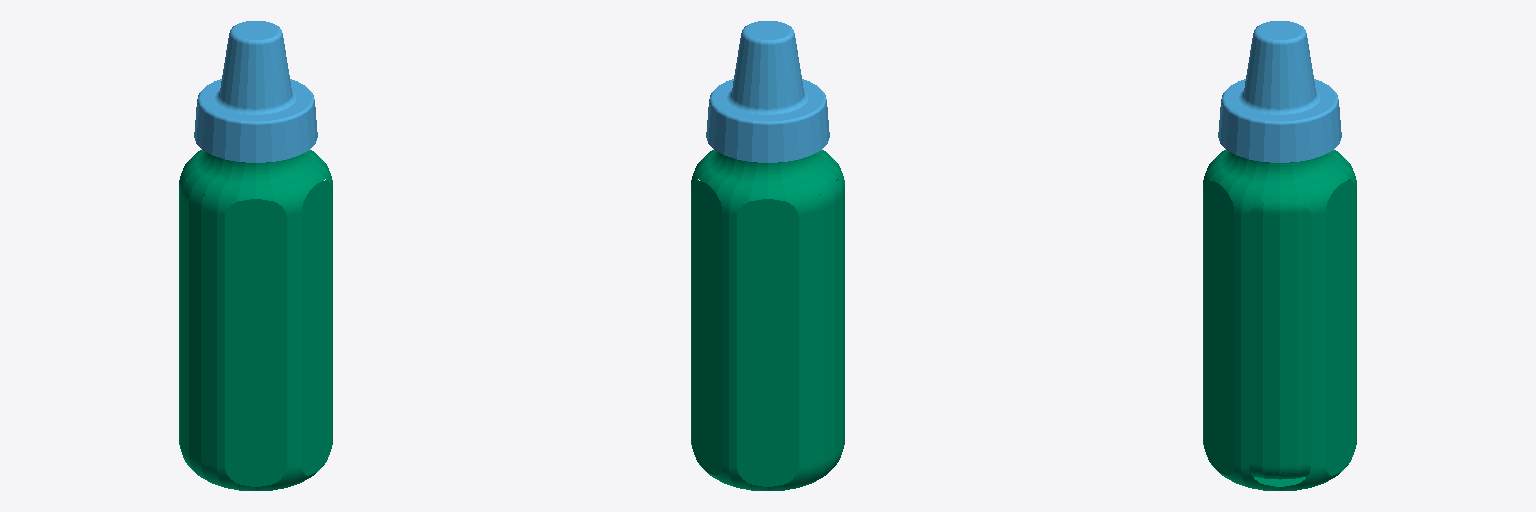
robot.urdf — partnet_89b12196a1db5a74bb8058680b6b9460:
<?xml version="1.0" ?>
<robot name="partnet_89b12196a1db5a74bb8058680b6b9460">
	<link name="base"/>
	<link name="link_0">
		<visual name="lid-10">
			<origin xyz="2.0702384051413114e-05 0 0.006605"/>
			<geometry>
				<mesh filename="textured_objs/original-10.obj"/>
			</geometry>
		</visual>
		<collision>
			<origin xyz="2.0702384051413114e-05 0 0.006605"/>
			<geometry>
				<mesh filename="textured_objs/original-10.obj"/>
			</geometry>
		</collision>
	</link>
	<joint name="joint_0" type="prismatic">
		<origin xyz="-2.0702384051413114e-05 0 -0.006605"/>
		<axis xyz="0 1 0"/>
		<child link="link_0"/>
		<parent link="link_1"/>
		<limit lower="-0.03200000000000003" upper="0.1080000000000001"/>
	</joint>
	<link name="link_1">
		<visual name="body-8">
			<origin xyz="0 0 0"/>
			<geometry>
				<mesh filename="textured_objs/new-5.obj"/>
			</geometry>
		</visual>
		<visual name="body-8">
			<origin xyz="0 0 0"/>
			<geometry>
				<mesh filename="textured_objs/new-1.obj"/>
			</geometry>
		</visual>
		<visual name="neck-9">
			<origin xyz="0 0 0"/>
			<geometry>
				<mesh filename="textured_objs/new-4.obj"/>
			</geometry>
		</visual>
		<visual name="neck-9">
			<origin xyz="0 0 0"/>
			<geometry>
				<mesh filename="textured_objs/new-2.obj"/>
			</geometry>
		</visual>
		<visual name="neck-9">
			<origin xyz="0 0 0"/>
			<geometry>
				<mesh filename="textured_objs/new-3.obj"/>
			</geometry>
		</visual>
		<collision>
			<origin xyz="0 0 0"/>
			<geometry>
				<mesh filename="textured_objs/new-5.obj"/>
			</geometry>
		</collision>
		<collision>
			<origin xyz="0 0 0"/>
			<geometry>
				<mesh filename="textured_objs/new-1.obj"/>
			</geometry>
		</collision>
		<collision>
			<origin xyz="0 0 0"/>
			<geometry>
				<mesh filename="textured_objs/new-4.obj"/>
			</geometry>
		</collision>
		<collision>
			<origin xyz="0 0 0"/>
			<geometry>
				<mesh filename="textured_objs/new-2.obj"/>
			</geometry>
		</collision>
		<collision>
			<origin xyz="0 0 0"/>
			<geometry>
				<mesh filename="textured_objs/new-3.obj"/>
			</geometry>
		</collision>
	</link>
	<joint name="joint_1" type="fixed">
		<origin rpy="1.570796326794897 0 -1.570796326794897" xyz="0 0 0"/>
		<child link="link_1"/>
		<parent link="base"/>
	</joint>
</robot>

--- What the picture shows (computed from the rendered views, not written in the file) ---
3 views of the same robot in one strip: view 1: azimuth 30°, elevation 25°; view 2: azimuth 150°, elevation 25°; view 3: azimuth 270°, elevation 25° (orthographic).
Robot: partnet_89b12196a1db5a74bb8058680b6b9460 — 3 links, 2 joints (1 prismatic, 1 fixed); root link base; default pose: every joint at zero.
Visible links, largest first — view 1: link_1, link_0; view 2: link_1, link_0; view 3: link_1, link_0.
Link boxes in pixels (x1,y1,x2,y2): link_1: (179, 150, 332, 490); link_0: (194, 21, 317, 162); link_1: (691, 150, 844, 490); link_0: (706, 21, 829, 162); link_1: (1203, 150, 1356, 490); link_0: (1218, 21, 1341, 162).
Bounding box of the posed robot: 0.5575 × 0.584 × 1.82 m (x, y, z).
Meshes: 6 distinct files referenced, 5 mesh visuals loaded (5 OBJ); not drawn: 1 (reference not matched to a file when rendering).